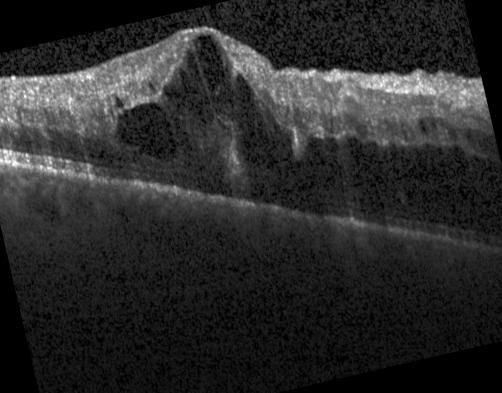intraretinal_cyst: (232, 74, 293, 168), (115, 101, 178, 162), (195, 35, 233, 117), (162, 68, 206, 124), (186, 50, 213, 121), (115, 96, 124, 108), (419, 120, 426, 133), (148, 82, 155, 92)
neuroepithelium_detachment: (248, 135, 502, 237)
